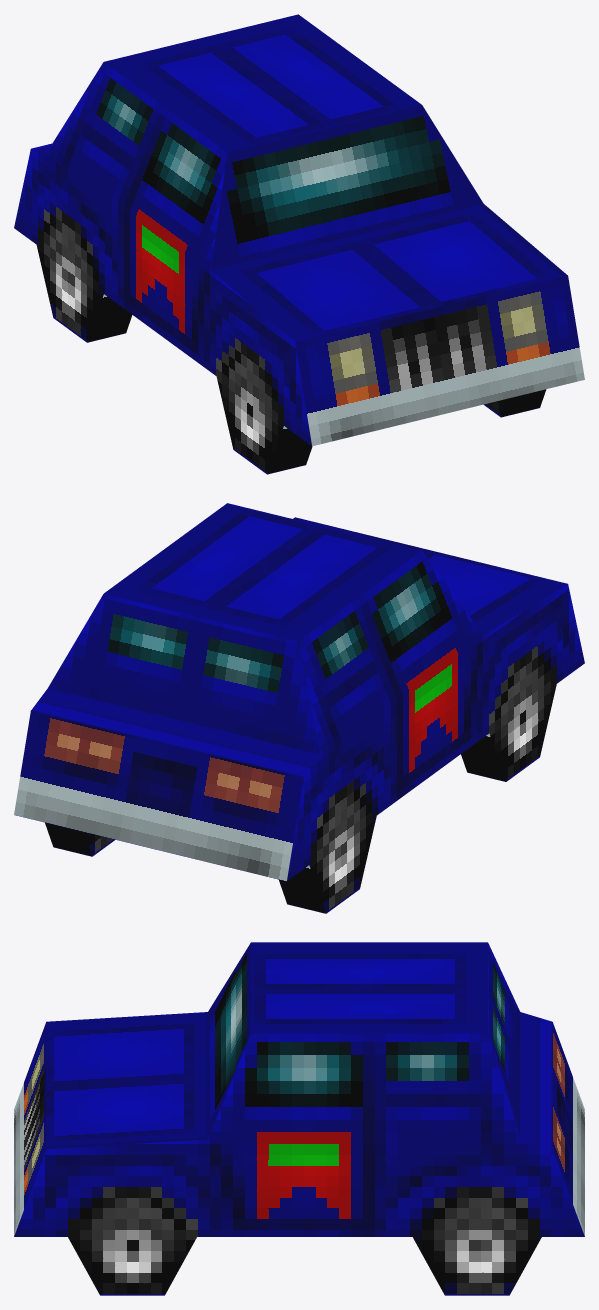
The model's file is jeep.glb.
3 renders of one model, top to bottom at view 1: azimuth 30°, elevation 25°; view 2: azimuth 150°, elevation 25°; view 3: azimuth 270°, elevation 25°, orthographic. The views are drawn at different scales.
Visible parts, largest first — view 1: jeep; view 2: jeep; view 3: jeep.
Part boxes in pixels (bbox=[...]): jeep: bbox=[14, 14, 584, 474]; jeep: bbox=[14, 503, 584, 913]; jeep: bbox=[14, 942, 584, 1295].
Size of the model in its own units: 2.52 by 2.25 by 4.77.
1 material, 1 textured.
